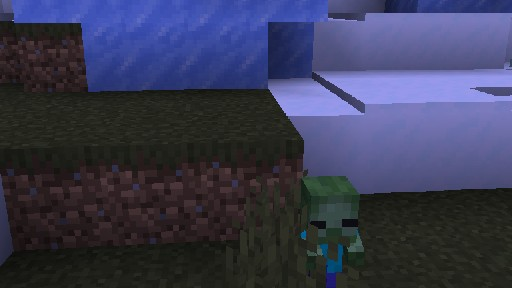zombie: (294, 174, 365, 288)
